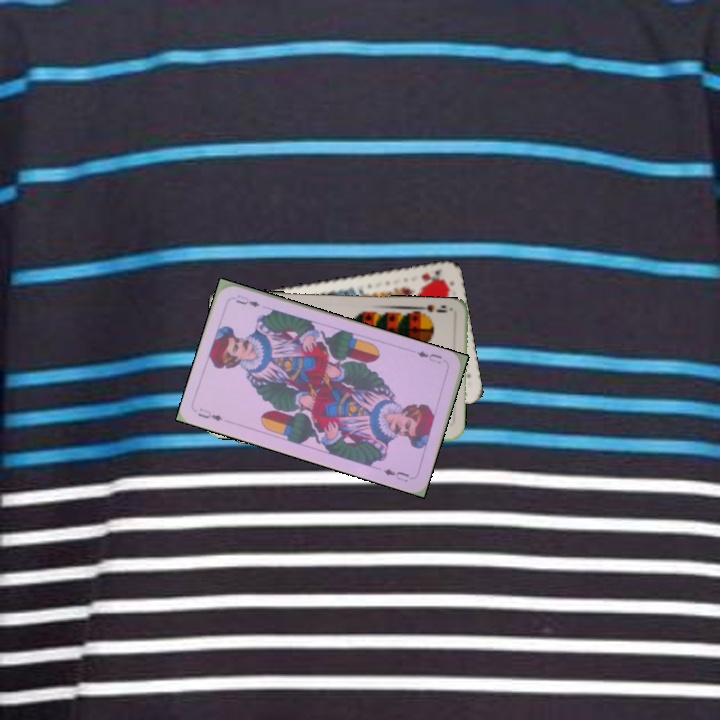EU: (194, 404, 225, 424), (413, 347, 445, 366)
HK: (417, 266, 446, 284)
S9: (412, 301, 453, 320)
